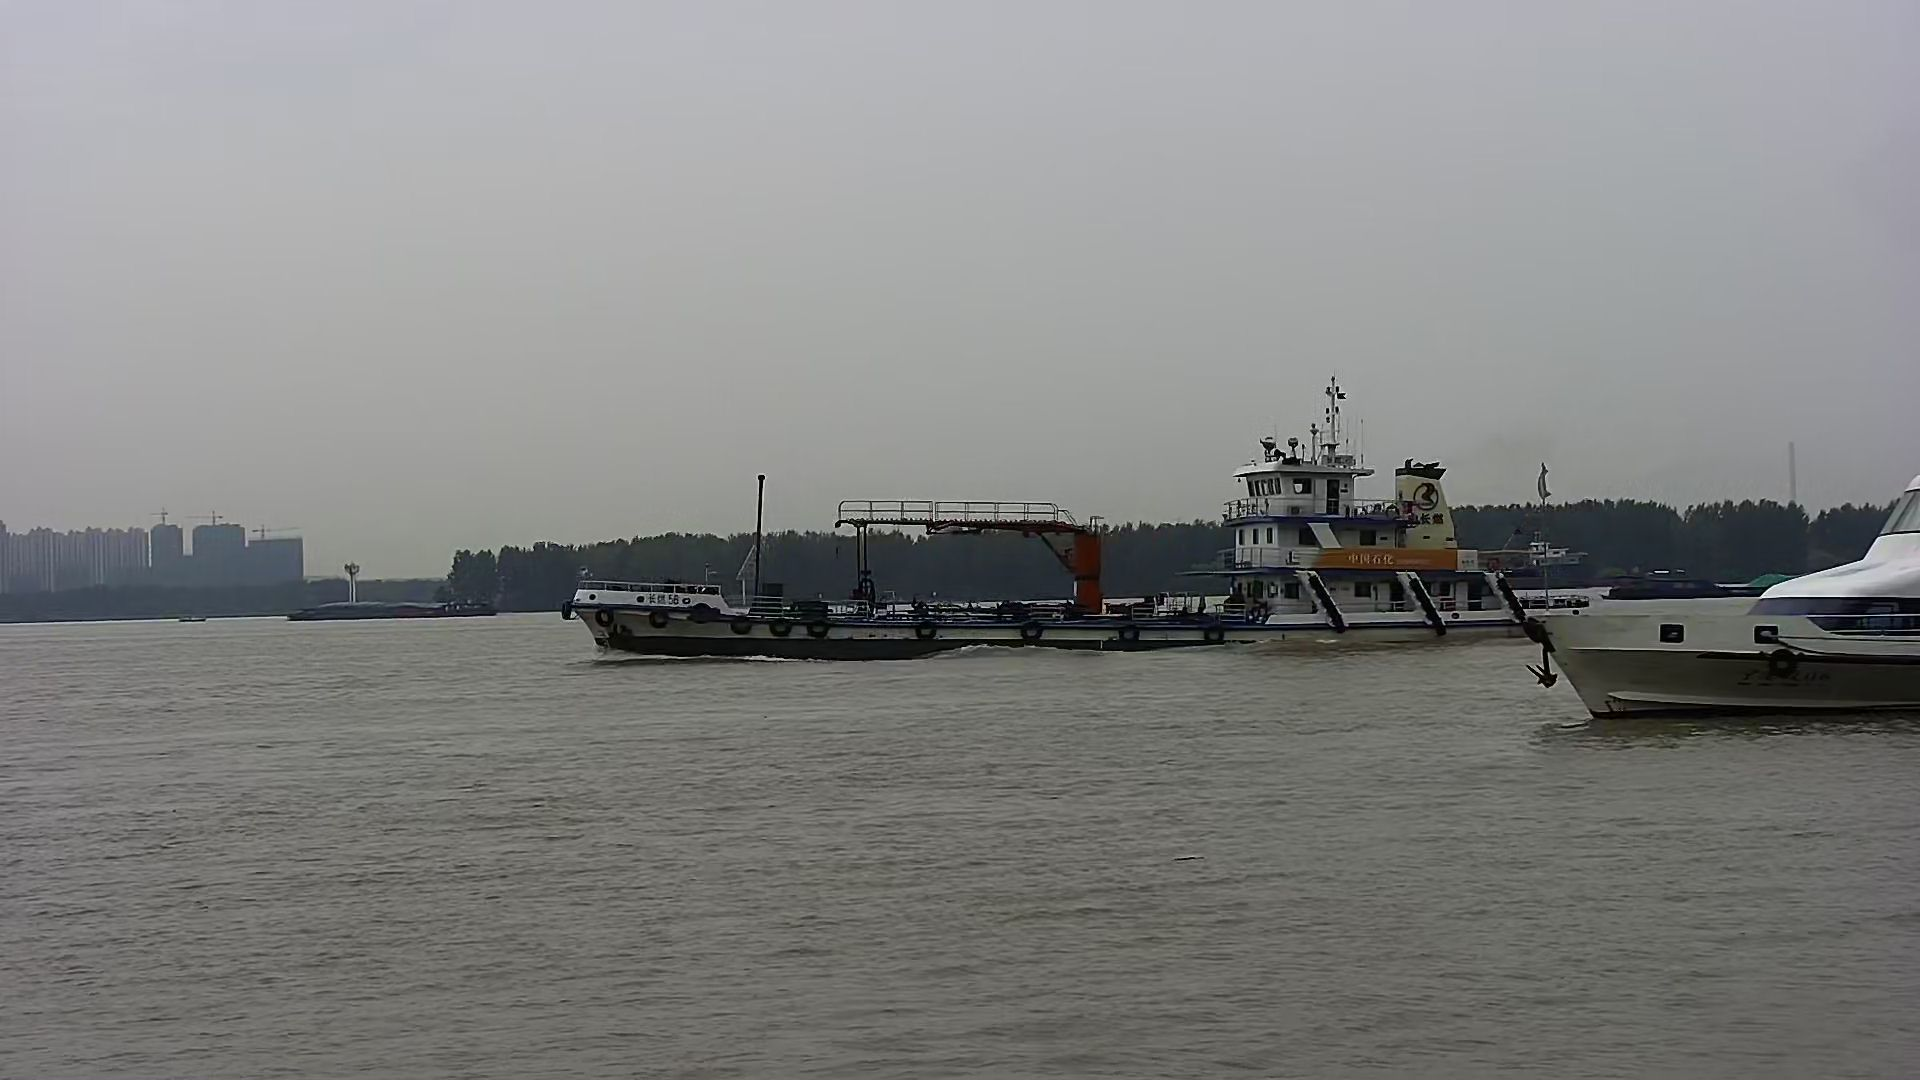ship: (554, 427, 1704, 654), (1528, 473, 1920, 716), (291, 563, 509, 624)
